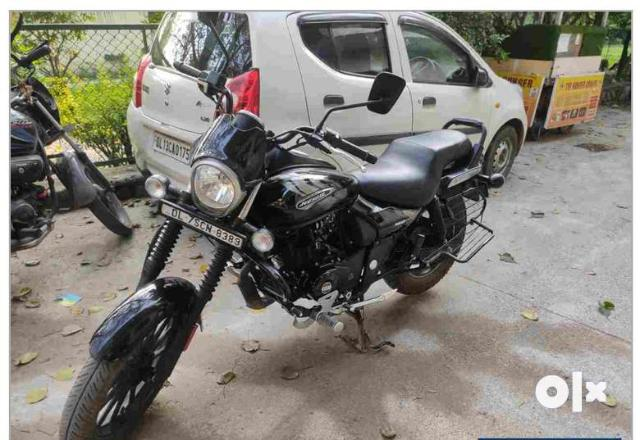Indian_Number_Plate: (158, 202, 245, 249)
